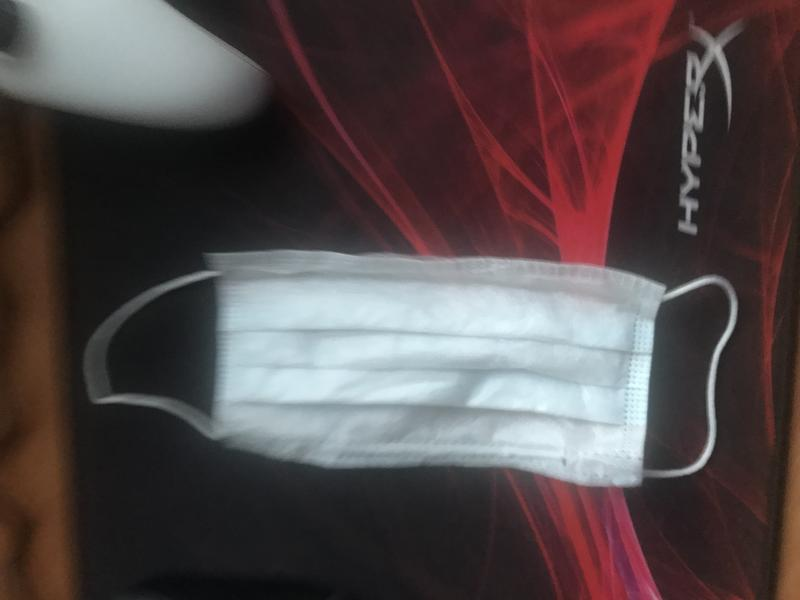medical_mask: (87, 250, 737, 480)
